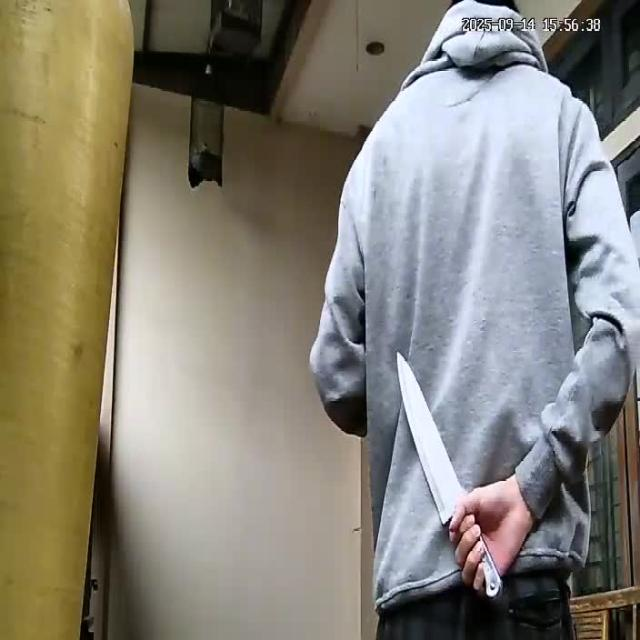senjata_tajam: (395, 349, 466, 525)
